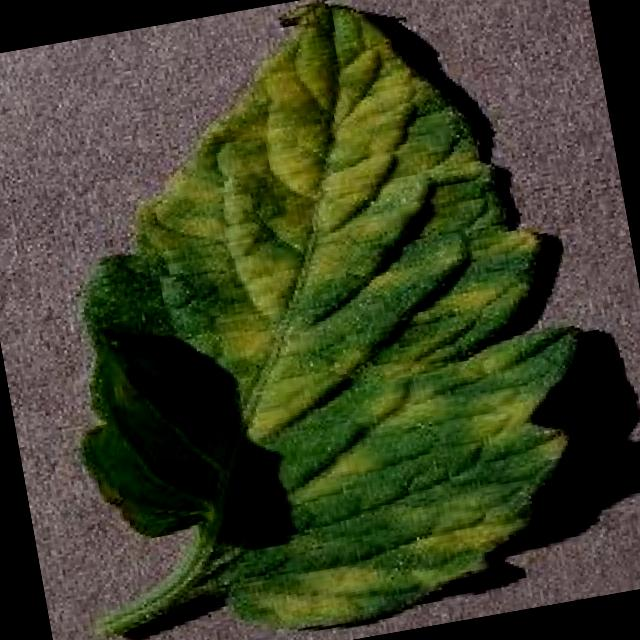leaf mold: (81, 7, 589, 636)
